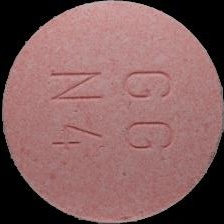43063-342: (0, 0, 224, 224)
